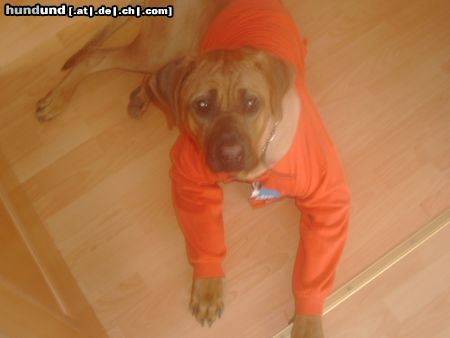tosa_inu: (33, 0, 351, 338)
